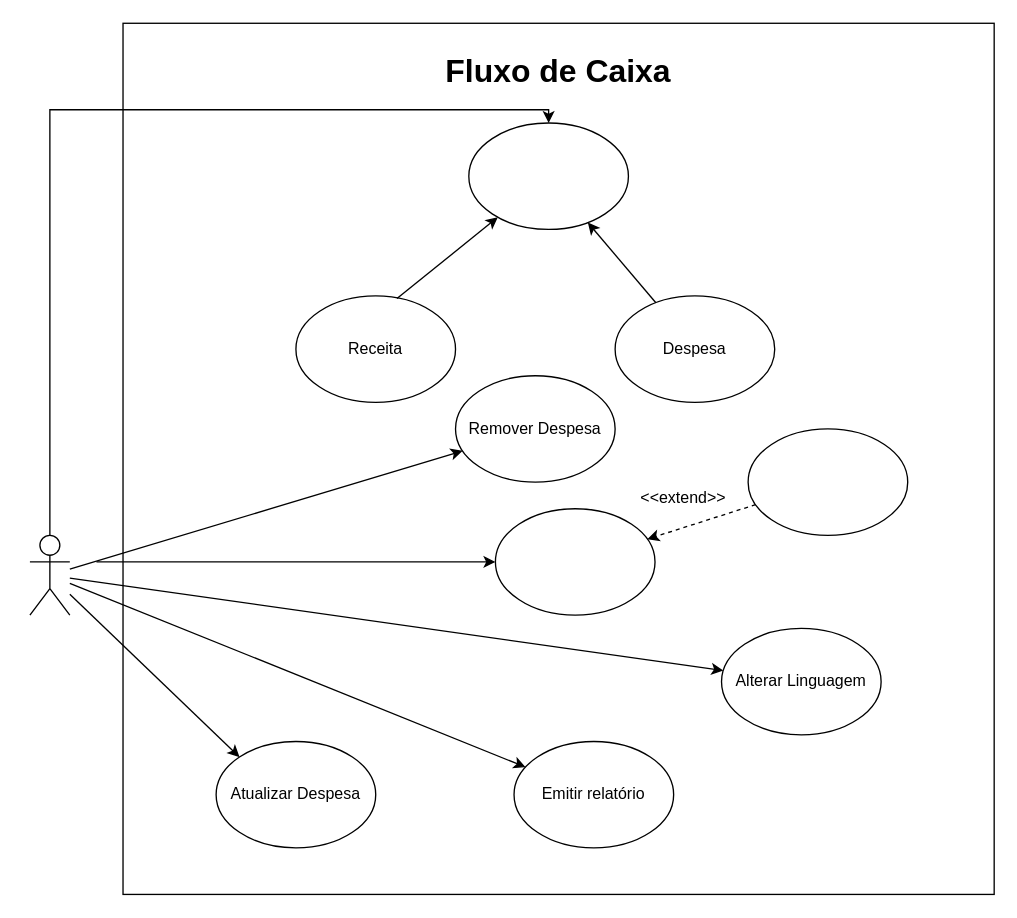
The diagram is 1017 pixels wide and 918 high, and some of its shapes have lost their labels. The centre of each missing label's shape, as x and y in pixels:
Consultar Despesa: [574,561]
Filtrar: [827,481]
Incluir: [547,175]
Usuario: [49,574]
